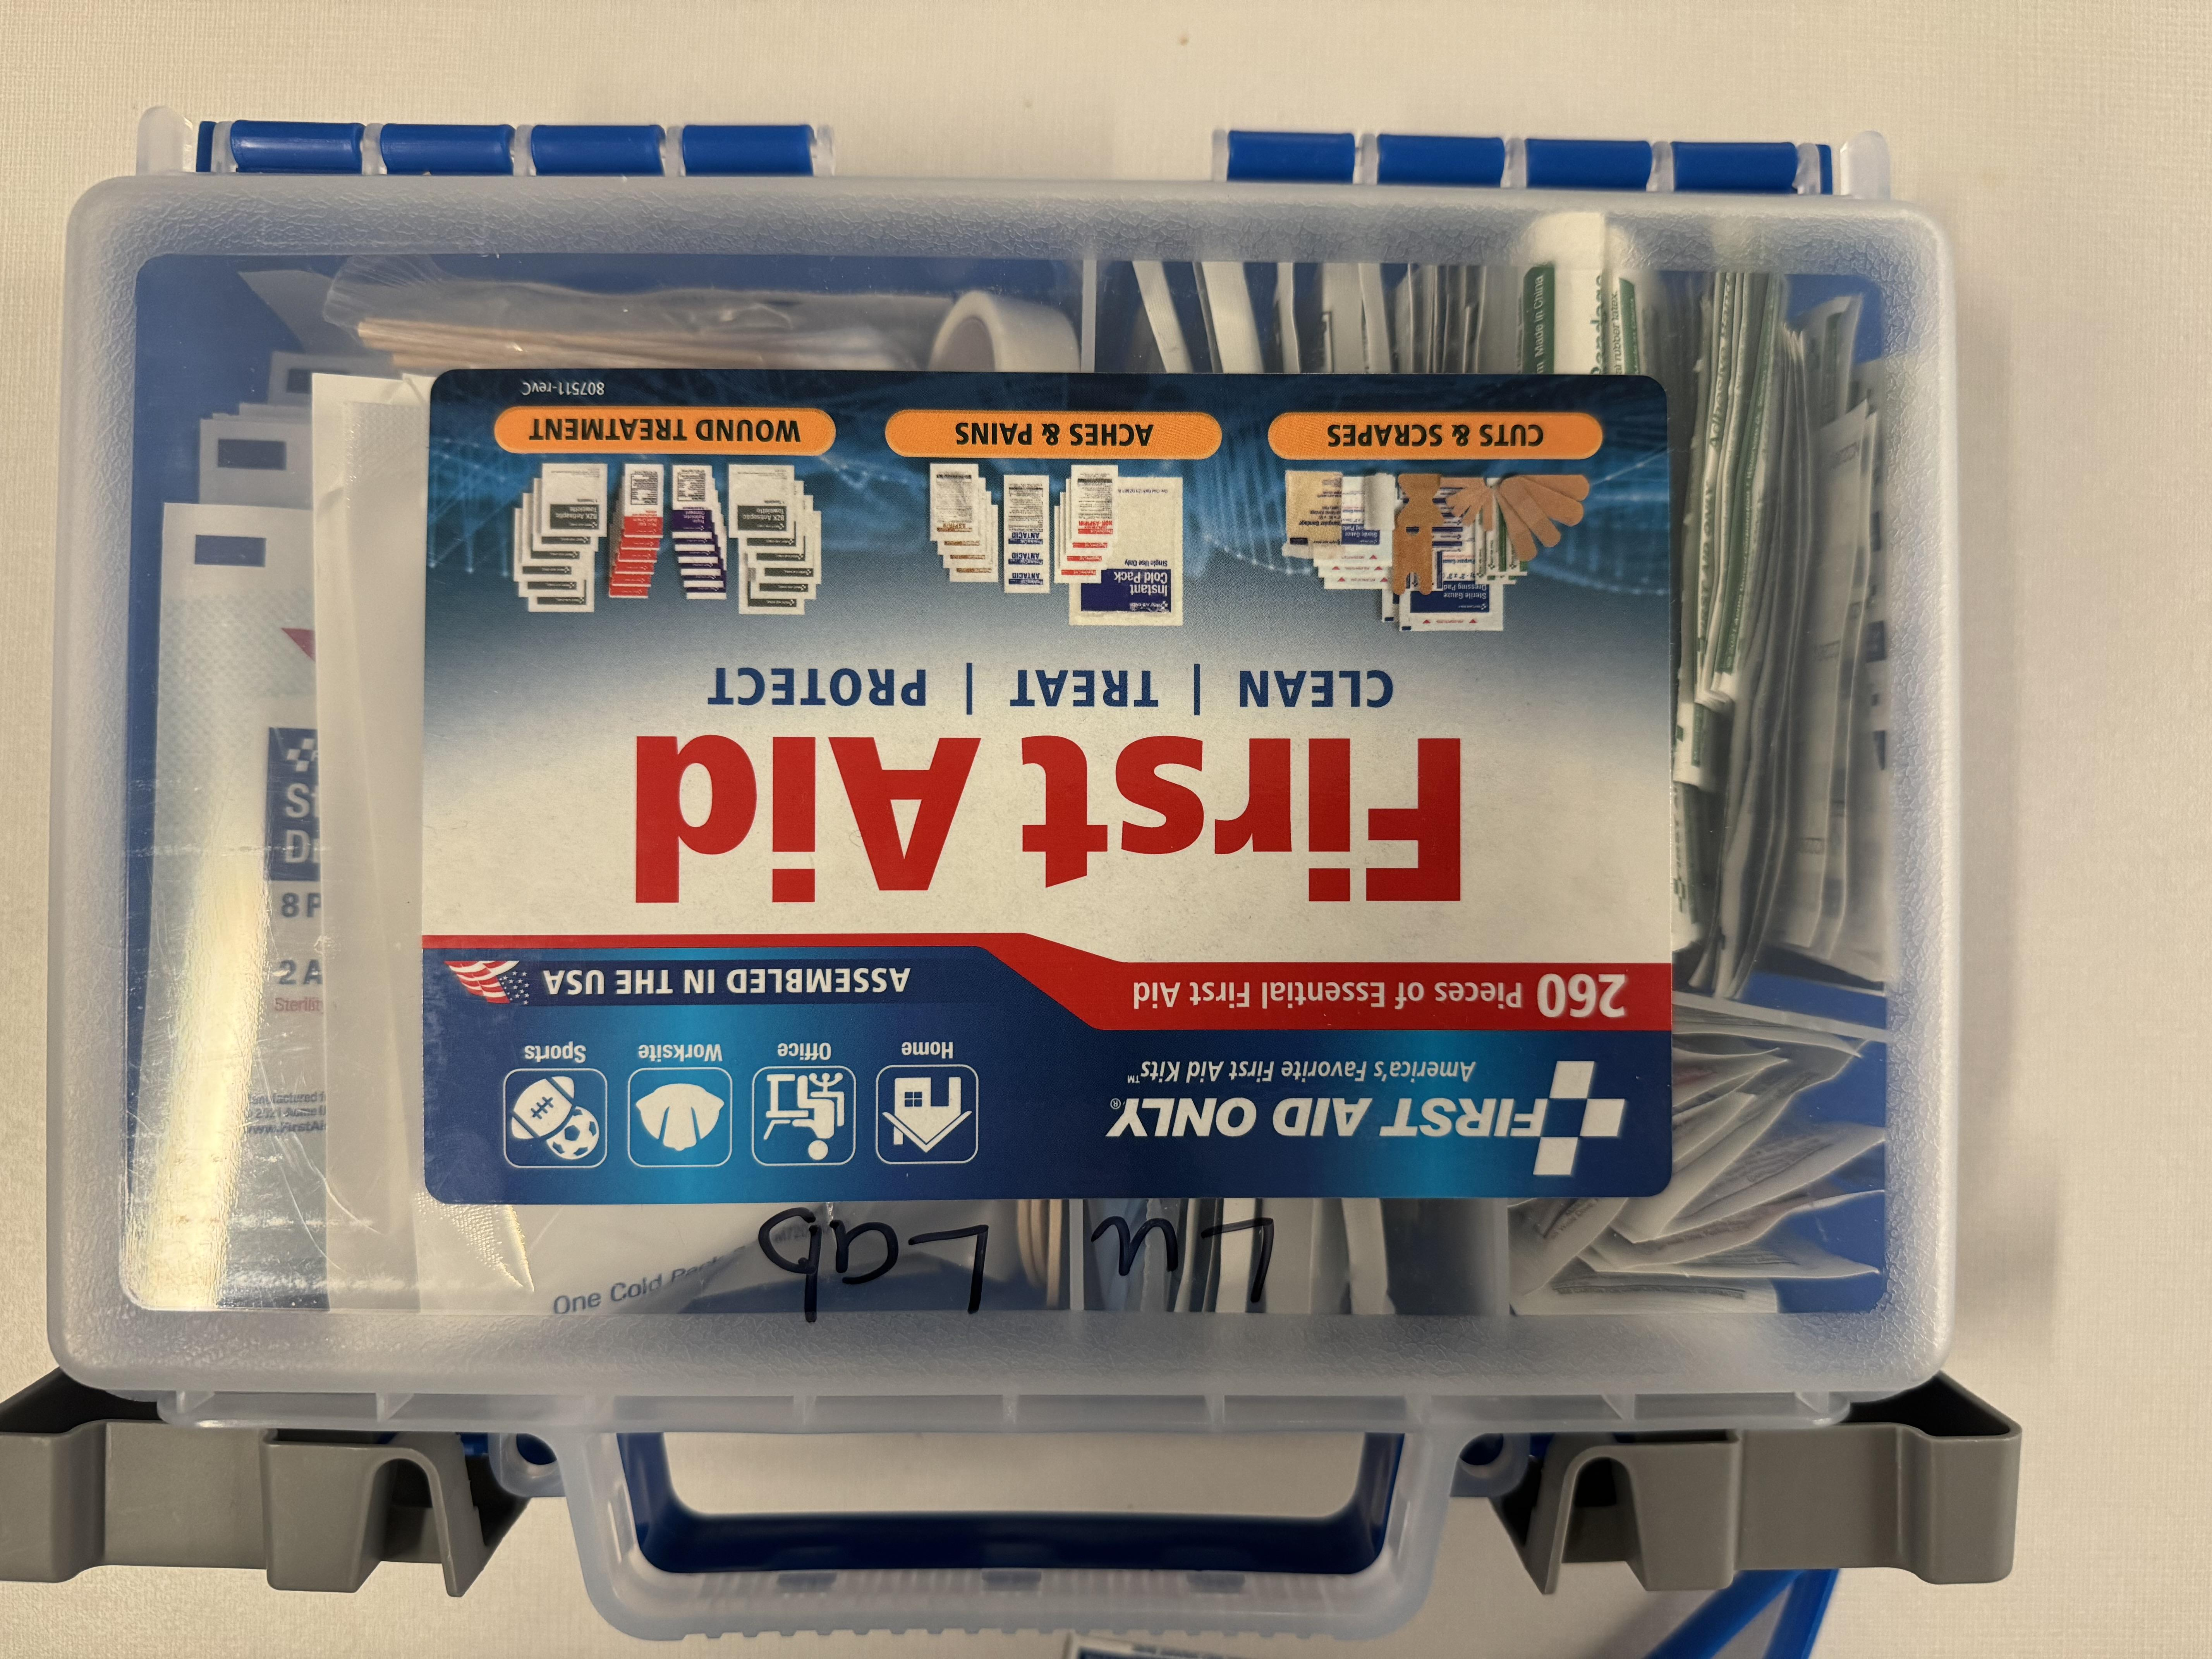first aid kit: (17, 0, 2066, 1549)
